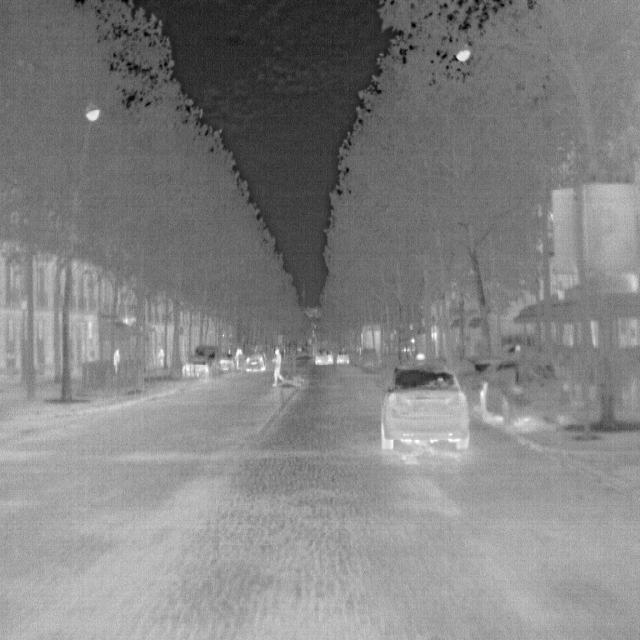Pedestrian: (270, 346, 282, 385)
Vehicle: (378, 363, 471, 455)
